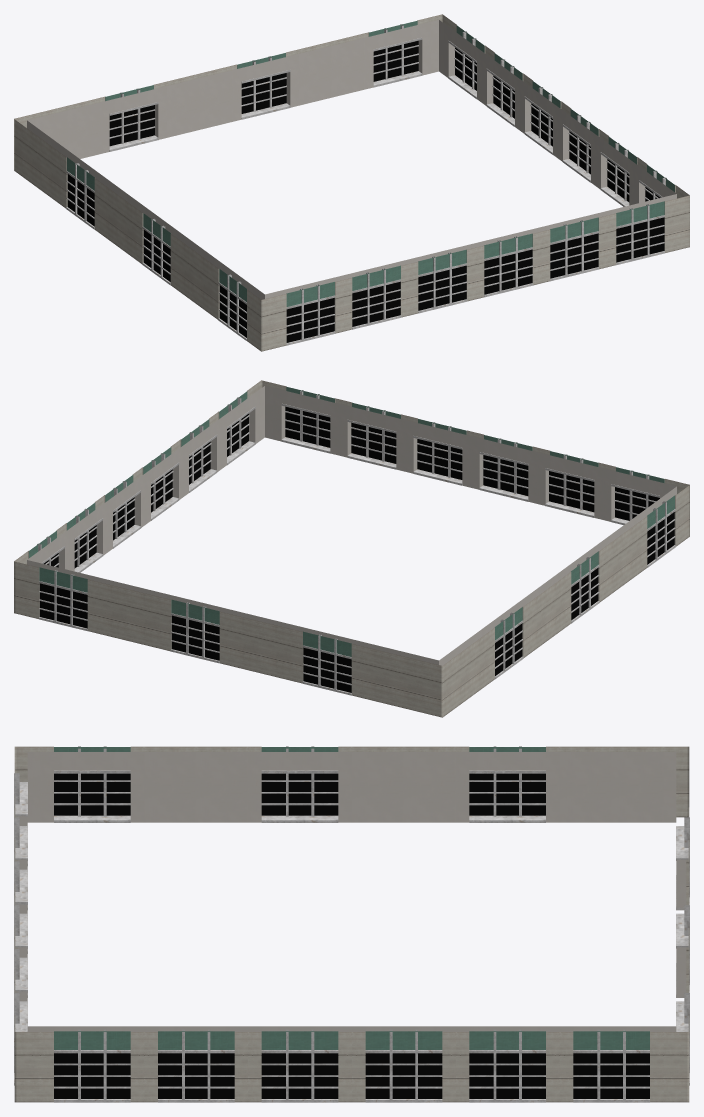
The model's file is BuildingD_Mid_VarA.fbx.
3 views of the same model, one above another, from view 1: azimuth 30°, elevation 25°; view 2: azimuth 150°, elevation 25°; view 3: azimuth 270°, elevation 25° (orthographic). The views are drawn at different scales.
Visible parts, largest first — view 1: BuildingD_Mid_VarA; view 2: BuildingD_Mid_VarA; view 3: BuildingD_Mid_VarA.
Boxes of the visible parts, left/top/right/bottom form: BuildingD_Mid_VarA: left=14, top=14, right=689, bottom=351; BuildingD_Mid_VarA: left=14, top=380, right=689, bottom=717; BuildingD_Mid_VarA: left=14, top=746, right=689, bottom=1102.
Size of the model in its own units: 2604 by 300 by 2604.
